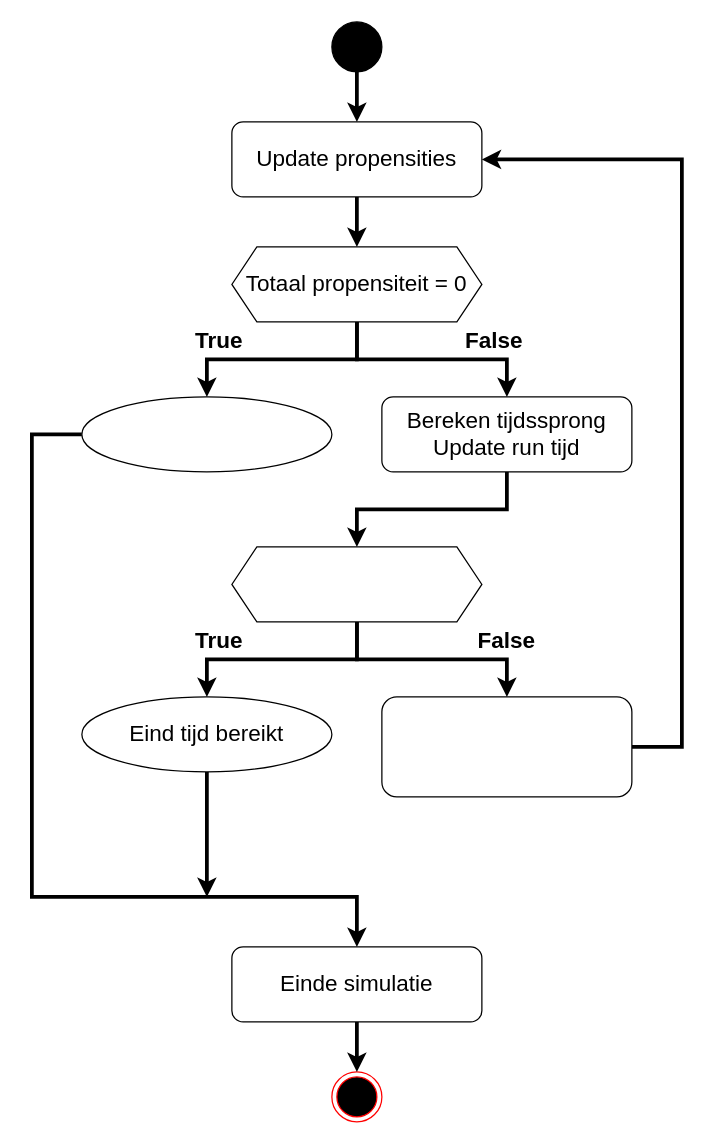
This 715x1144 diagram has some shape labels left out. Here are the shapes that lost their labels. From the top down, the box of each, then its label:
(81, 396, 332, 472): Geen reacties mogelijk
(231, 546, 482, 622): Run tijd >= eind tijd
(381, 696, 632, 797): Update DivIVA Update event Log data
